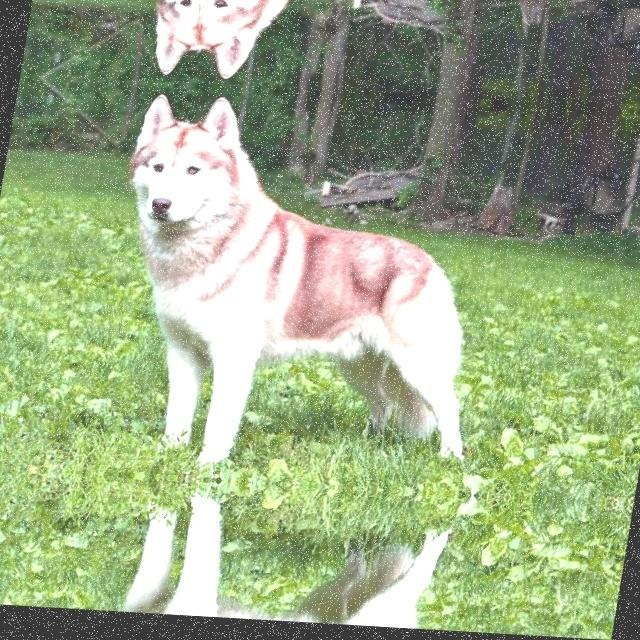dog: (80, 92, 540, 465), (53, 500, 472, 631), (142, 0, 564, 95)
